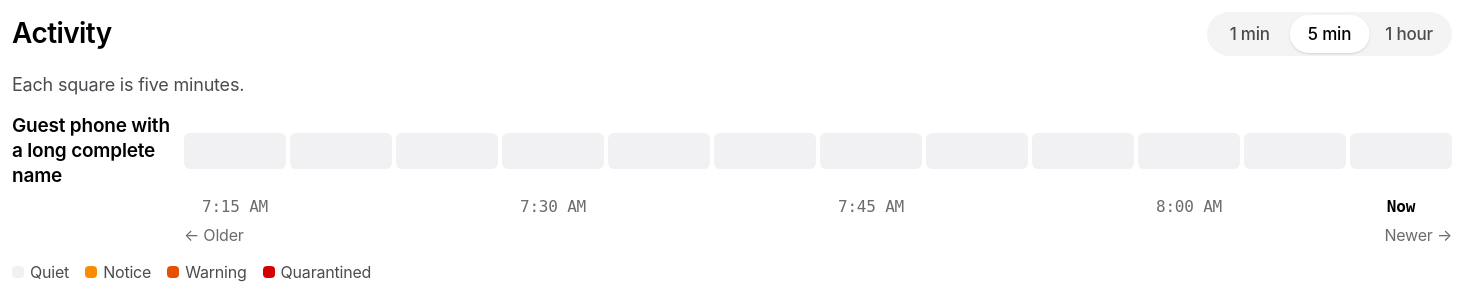
Test case: uses the selected interval caption and displays full heatmap names without plus controls
Expected: the text "Each square is five minutes." is shown, [12,74,244,95]
Expected: the text "Guest phone with a long complete name" is shown, [12,114,172,188]
Click the button "1 min" at (1250, 34), box [1210,15,1290,53]
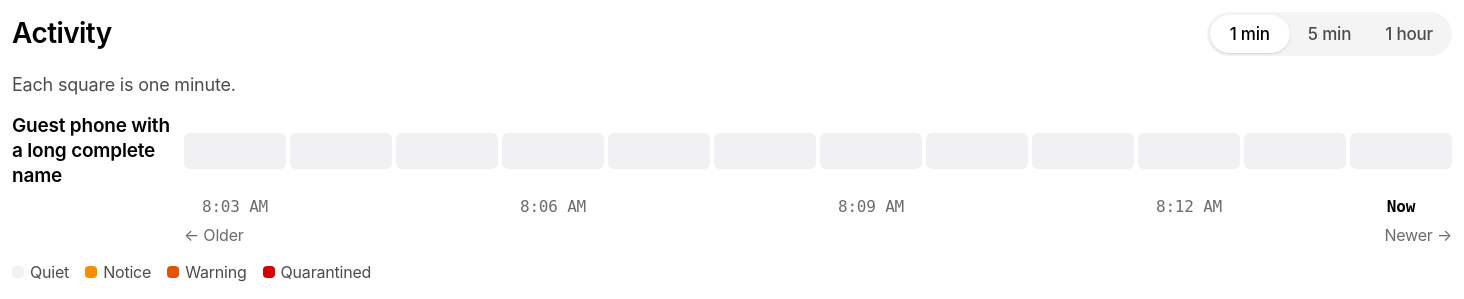
Result: the text "Each square is one minute." is shown at [12,74,236,95]
Click the button "1 hour" at (1409, 34), box [1369,15,1449,53]
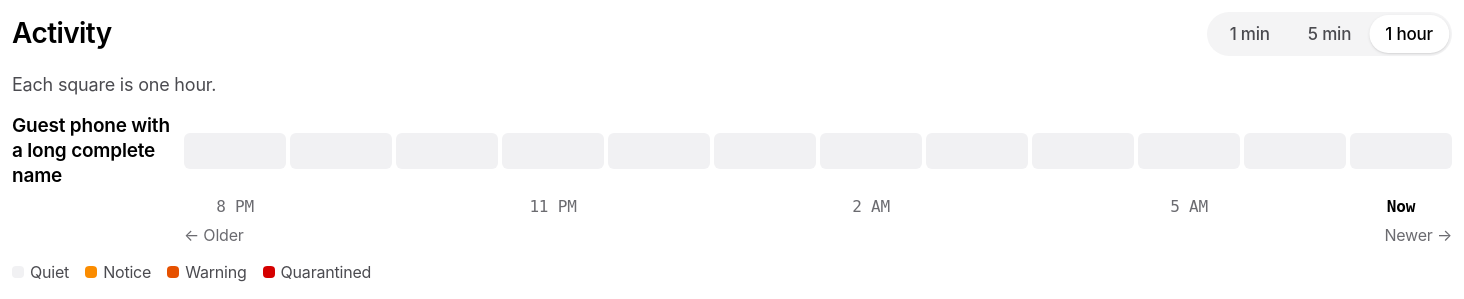
Result: the text "Each square is one hour." is shown at [12,74,216,95]
